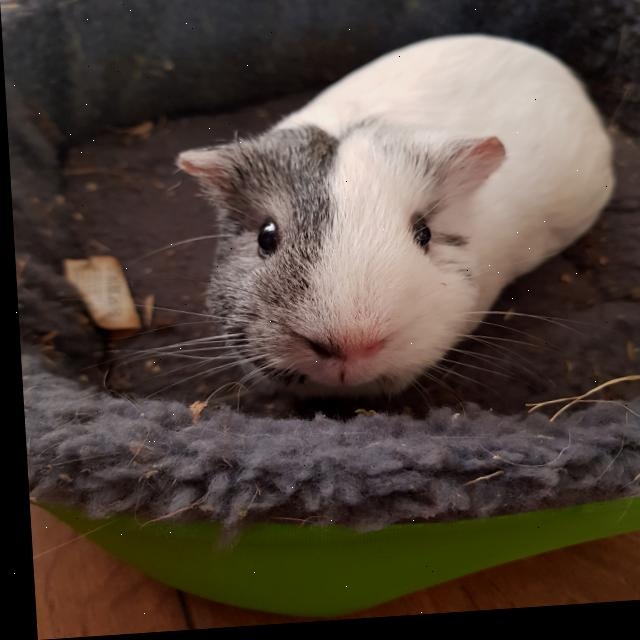guinea pig: (167, 27, 626, 416)
